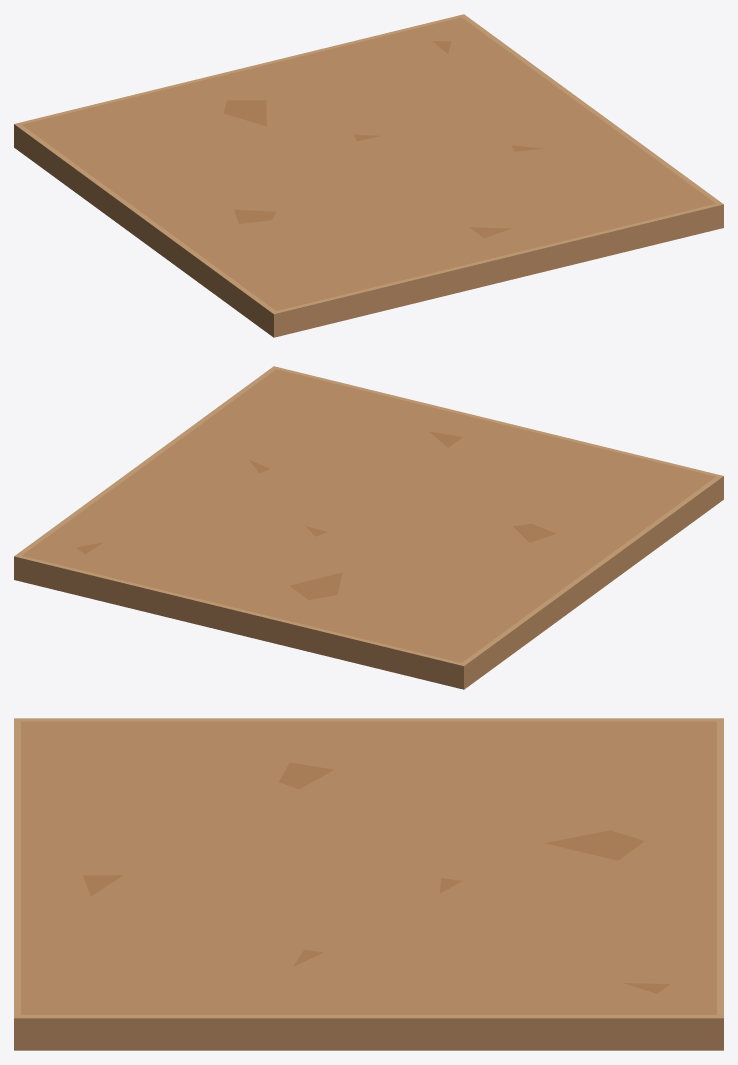
The model's file is ConcrateSlabs_E_1_2.glb.
3 renders of one model, top to bottom at view 1: azimuth 30°, elevation 25°; view 2: azimuth 150°, elevation 25°; view 3: azimuth 270°, elevation 25°, orthographic. The views are drawn at different scales.
Visible parts, largest first — view 1: ConcrateSlabs_E_1_2; view 2: ConcrateSlabs_E_1_2; view 3: ConcrateSlabs_E_1_2.
Boxes of the visible parts, x1,y1,x2,y2 form: ConcrateSlabs_E_1_2: [14, 14, 723, 337]; ConcrateSlabs_E_1_2: [14, 366, 723, 689]; ConcrateSlabs_E_1_2: [14, 718, 723, 1050].
Bounding box in the file's own units: 8 × 0.4 × 8.
Materials: 1 (1 with a texture image).
